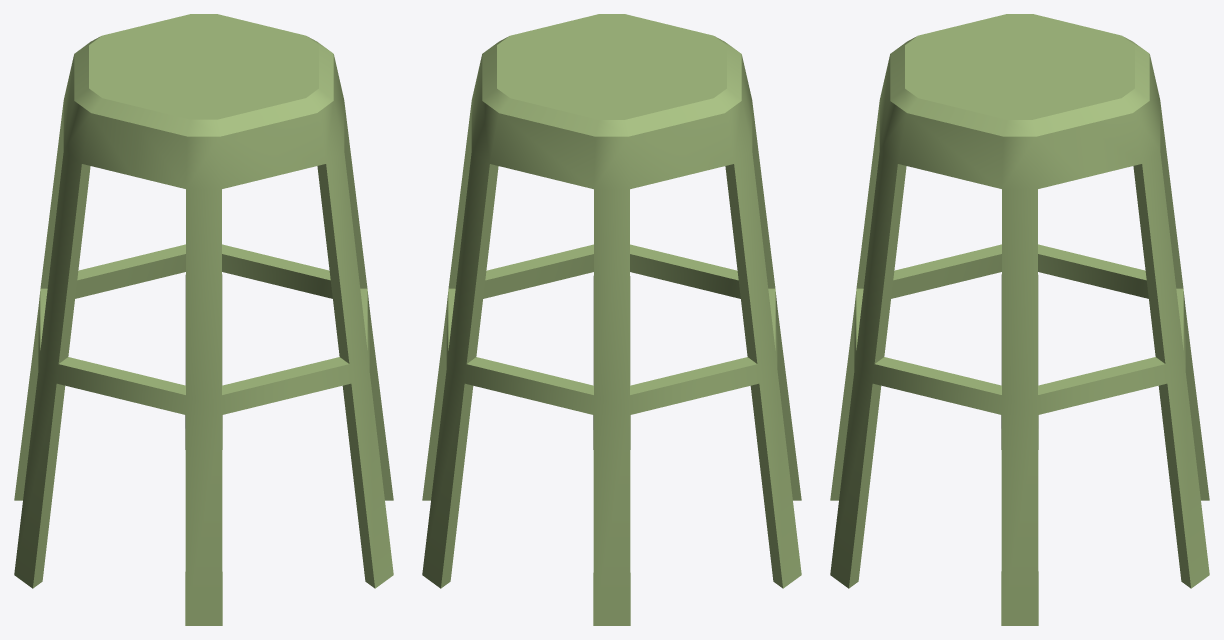
Rendered from Chair.fbx.
The picture shows the model from 3 angles, left to right: view 1: azimuth 30°, elevation 25°; view 2: azimuth 150°, elevation 25°; view 3: azimuth 270°, elevation 25°; orthographic projection.
Visible parts, largest first — view 1: pCylinder1; view 2: pCylinder1; view 3: pCylinder1.
Part boxes in pixels (box(x1,y1,x2,y2)): pCylinder1: box(14, 14, 393, 625); pCylinder1: box(422, 14, 801, 625); pCylinder1: box(830, 14, 1209, 625).
Size of the model in its own units: 2.12 by 2.64 by 1.93.
